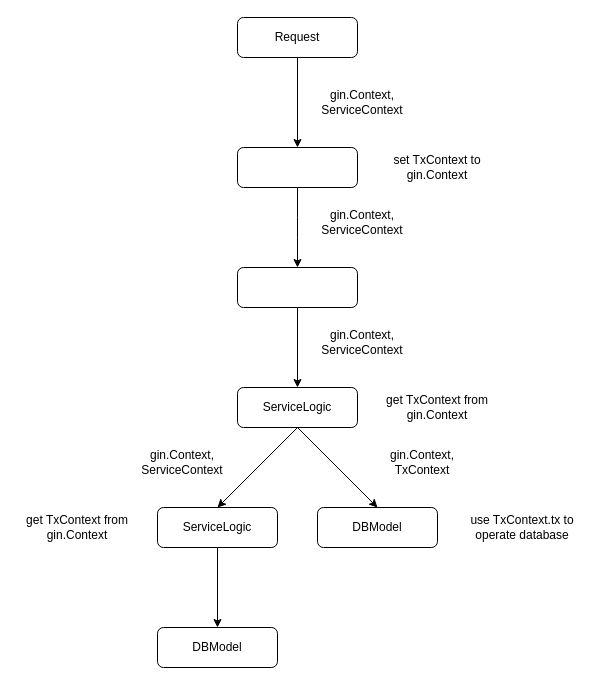
This 604x685 diagram has some shape labels left out. The centre of each missing label's shape, as x and y in pixels:
"ServiceHandler" belongs at [297,287].
"TxMiddleware" belongs at [297,167].
